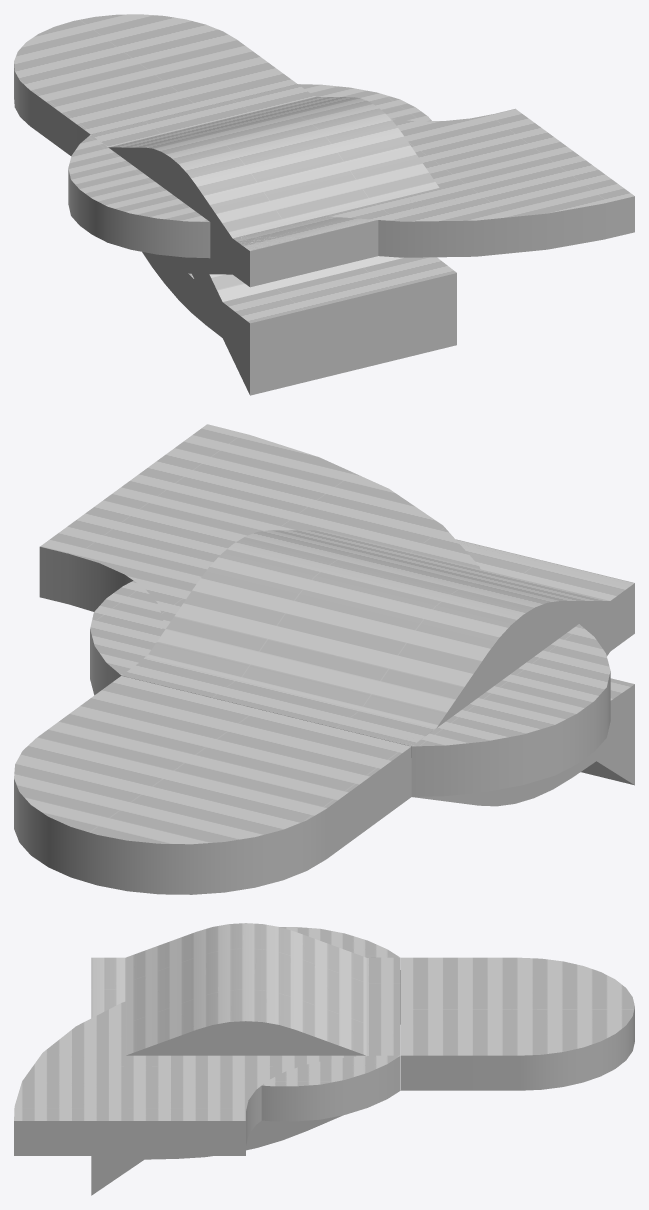
File: Floor_2x3_HardEdge_thin.fbx
3 renders of one model, top to bottom at view 1: azimuth 30°, elevation 25°; view 2: azimuth 150°, elevation 25°; view 3: azimuth 270°, elevation 25°, orthographic. The views are drawn at different scales.
Parts seen in each view (by area): view 1: Floor_2x3_HE_Tn_hill, Floor_2x3_HE_Tn_rotate, Floor_2x3_HE_Th_cap, Floor_2x3_HE_Tn_ramp2, Floor_2x3_HE_Tn_circle, Floor_2x3_HE_Tn_ramp1, Floor_2x3_HE_Tn_deep; view 2: Floor_2x3_HE_Th_cap, Floor_2x3_HE_Tn_hill, Floor_2x3_HE_Tn_rotate, Floor_2x3_HE_Tn_circle, Floor_2x3_HE_Tn_deep, Floor_2x3_HE_Tn_ramp2, Floor_2x3_HE_Tn_ramp1; view 3: Floor_2x3_HE_Tn_rotate, Floor_2x3_HE_Th_cap, Floor_2x3_HE_Tn_hill, Floor_2x3_HE_Tn_circle, Floor_2x3_HE_Tn_deep, Floor_2x3_HE_Tn_ramp2, Floor_2x3_HE_Tn_ramp1.
Boxes of the visible parts, x1,y1,x2,y2 form: Floor_2x3_HE_Tn_hill: [108, 97, 439, 286]; Floor_2x3_HE_Tn_rotate: [91, 84, 634, 257]; Floor_2x3_HE_Th_cap: [14, 14, 296, 155]; Floor_2x3_HE_Tn_ramp2: [142, 252, 456, 359]; Floor_2x3_HE_Tn_circle: [68, 84, 431, 258]; Floor_2x3_HE_Tn_ramp1: [184, 256, 456, 395]; Floor_2x3_HE_Tn_deep: [97, 139, 455, 287]; Floor_2x3_HE_Th_cap: [14, 676, 411, 894]; Floor_2x3_HE_Tn_hill: [146, 530, 634, 728]; Floor_2x3_HE_Tn_rotate: [39, 424, 480, 757]; Floor_2x3_HE_Tn_circle: [90, 580, 610, 796]; Floor_2x3_HE_Tn_deep: [420, 539, 634, 739]; Floor_2x3_HE_Tn_ramp2: [412, 678, 634, 806]; Floor_2x3_HE_Tn_ramp1: [581, 735, 634, 785]; Floor_2x3_HE_Tn_rotate: [14, 957, 400, 1155]; Floor_2x3_HE_Th_cap: [400, 957, 634, 1090]; Floor_2x3_HE_Tn_hill: [125, 923, 366, 1055]; Floor_2x3_HE_Tn_circle: [261, 927, 400, 1121]; Floor_2x3_HE_Tn_deep: [91, 957, 380, 1124]; Floor_2x3_HE_Tn_ramp2: [91, 1115, 342, 1160]; Floor_2x3_HE_Tn_ramp1: [91, 1156, 149, 1195].
Bounding box in the file's own units: 594 × 249 × 803.
